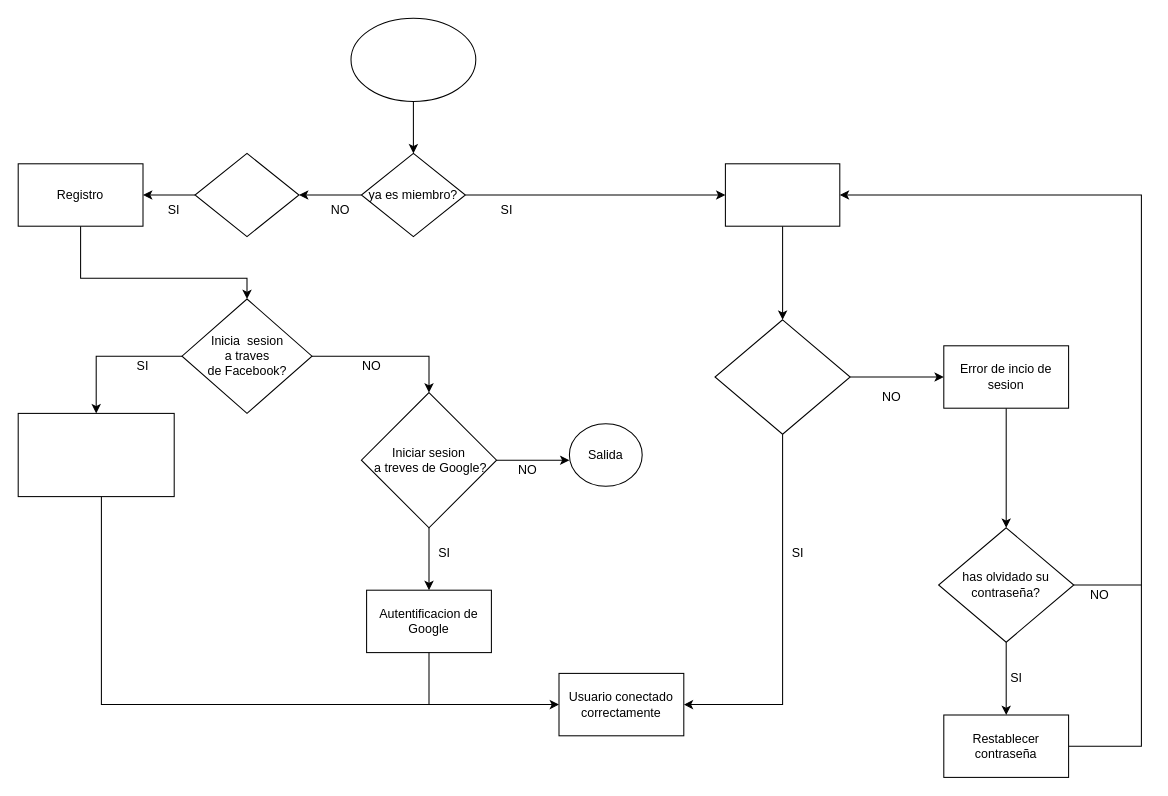
Image size: 1168x796. Some labels were removed from this diagram. Here are the shapes that lost their labels. From the top down, the box of each, then its label:
(350, 17, 476, 101): Inicio
(194, 152, 299, 237): quieres inscribirte?
(724, 163, 840, 226): Introducir correo electronico y contraseña
(714, 319, 850, 434): Credenciales de usuario validas
(17, 412, 174, 497): Autenticacion de Facebook
